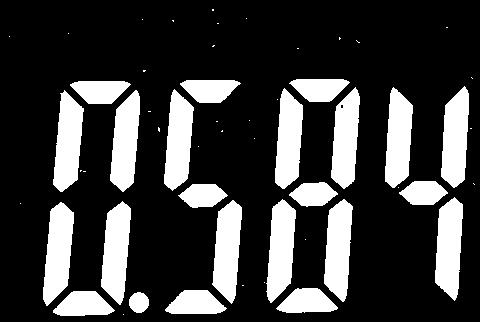0: (40, 80, 141, 317)
4: (380, 85, 473, 304)
5: (160, 78, 244, 316)
8: (263, 77, 364, 312)
dot: (127, 291, 151, 314)
